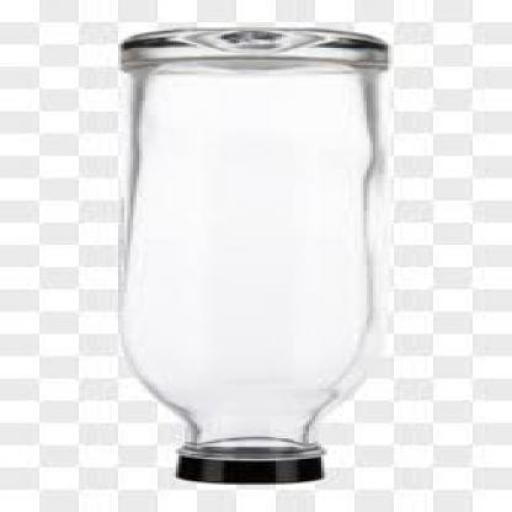glass: (124, 30, 397, 460)
metal: (179, 458, 327, 488)
